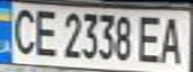2: (57, 8, 84, 60)
3: (78, 10, 100, 61), (97, 10, 118, 61)
8: (115, 11, 136, 62)
A: (157, 12, 187, 65)
C: (6, 4, 39, 56)
E: (30, 6, 60, 58), (136, 12, 166, 64)
